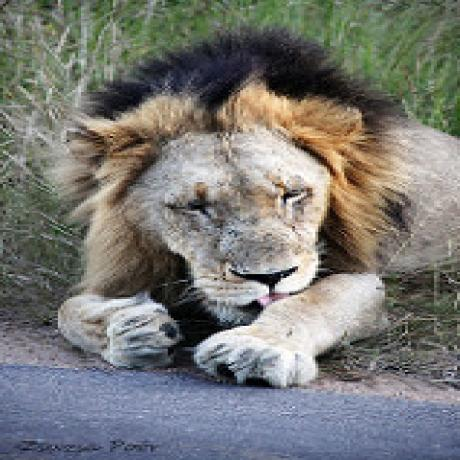Lion: (52, 21, 460, 383)
